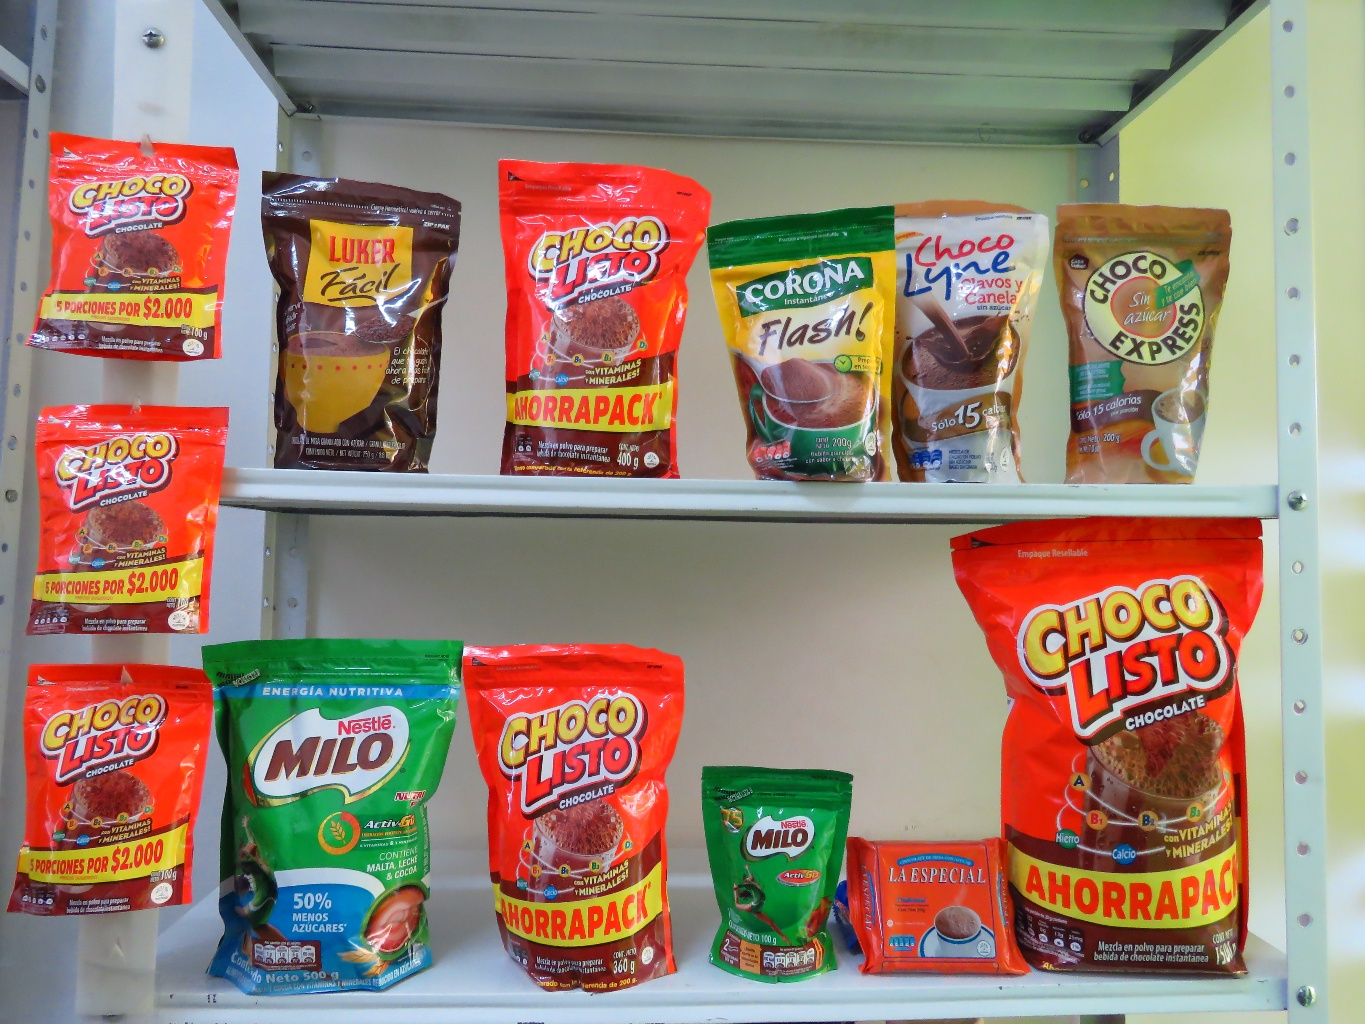COL0170103DYP1,500: (959, 518, 1268, 975)
COL0170103DYP10000: (35, 134, 239, 373)
COL0170103DYP36000: (455, 625, 692, 990)
COL0170103DYP40000: (488, 147, 708, 475)
COL0170203DYP10000: (692, 764, 861, 979)
COL0170205DYP50000: (195, 643, 463, 1005)
